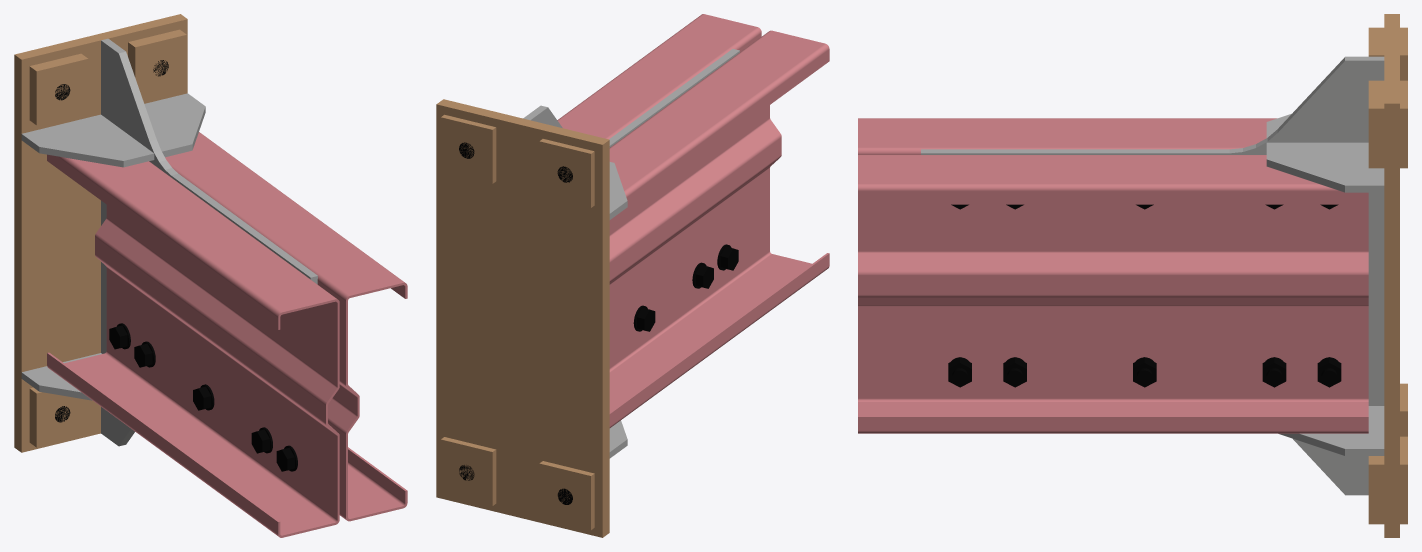
The model's file is column-base.glb.
3 views of the same model, side by side, from view 1: azimuth 30°, elevation 25°; view 2: azimuth 150°, elevation 25°; view 3: azimuth 270°, elevation 25° (orthographic). The views are drawn at different scales.
Visible parts, largest first — view 1: Колонна [0N797gY$j4mh5uXL3cl2Q2], База колонны [1m0E8TShv3gxHEkDilOdN0], Колонна [2wMuTnm4fAkA5I$vCb54PE], База колонны [2ZpkPhGk96VQC3WWBHyIrd], База колонны [2PXQz_Xdn2qh6IOphRCKni], Шайба [2fafrQ3cf5WBHh62Sd41t_], Шайба [3zwl6P9e94JwCtStyLttg4], Шайба [3MxLxZxUr3G9Z1jr2na0nY], База колонны [1vDzN1ooD8PvpcQIEvAxT$], Bolt assembly [2qIWogcfn7vBCVOMD9Efex], База колонны [29LXSt9mj0LujNYqn$jK56]; view 2: База колонны [1m0E8TShv3gxHEkDilOdN0], Колонна [0N797gY$j4mh5uXL3cl2Q2], Колонна [2wMuTnm4fAkA5I$vCb54PE], Шайба [07PDSvedjAYOUN29boiYsx], Шайба [2vgiS5Zl9EcP1tIyc62NW9], Шайба [2irc$6ngXB3v3CDgdjNxog], Шайба [2rQ7wVpWHE7gz0maotjUeJ], База колонны [2ZpkPhGk96VQC3WWBHyIrd], Bolt assembly [2qIWogcfn7vBCVOMD9Efex], База колонны [2PXQz_Xdn2qh6IOphRCKni], База колонны [29LXSt9mj0LujNYqn$jK56]; view 3: Колонна [2wMuTnm4fAkA5I$vCb54PE], База колонны [2ZpkPhGk96VQC3WWBHyIrd], Колонна [0N797gY$j4mh5uXL3cl2Q2], База колонны [1m0E8TShv3gxHEkDilOdN0], База колонны [1vDzN1ooD8PvpcQIEvAxT$], Bolt assembly [2qIWogcfn7vBCVOMD9Efex], База колонны [28NZLmpXrDcPMoF5okpPin], Шайба [3zwl6P9e94JwCtStyLttg4], Шайба [18Cw4lvG16sOCh5TZXtiE7], Шайба [2irc$6ngXB3v3CDgdjNxog], Шайба [07PDSvedjAYOUN29boiYsx].
Part boxes in pixels (x1=…): Колонна [0N797gY$j4mh5uXL3cl2Q2]: x1=47, y1=154, x2=339, y2=537; База колонны [1m0E8TShv3gxHEkDilOdN0]: x1=14, y1=14, x2=187, y2=452; Колонна [2wMuTnm4fAkA5I$vCb54PE]: x1=165, y1=132, x2=407, y2=521; База колонны [2ZpkPhGk96VQC3WWBHyIrd]: x1=101, y1=38, x2=317, y2=446; База колонны [2PXQz_Xdn2qh6IOphRCKni]: x1=21, y1=114, x2=154, y2=167; Шайба [2fafrQ3cf5WBHh62Sd41t_]: x1=29, y1=53, x2=88, y2=125; Шайба [3zwl6P9e94JwCtStyLttg4]: x1=128, y1=29, x2=186, y2=99; Шайба [3MxLxZxUr3G9Z1jr2na0nY]: x1=29, y1=387, x2=88, y2=447; База колонны [1vDzN1ooD8PvpcQIEvAxT$]: x1=144, y1=93, x2=205, y2=157; Bolt assembly [2qIWogcfn7vBCVOMD9Efex]: x1=109, y1=323, x2=297, y2=471; База колонны [29LXSt9mj0LujNYqn$jK56]: x1=21, y1=353, x2=101, y2=400; База колонны [1m0E8TShv3gxHEkDilOdN0]: x1=436, y1=99, x2=609, y2=537; Колонна [0N797gY$j4mh5uXL3cl2Q2]: x1=609, y1=30, x2=829, y2=427; Колонна [2wMuTnm4fAkA5I$vCb54PE]: x1=557, y1=14, x2=761, y2=139; Шайба [07PDSvedjAYOUN29boiYsx]: x1=441, y1=437, x2=496, y2=505; Шайба [2vgiS5Zl9EcP1tIyc62NW9]: x1=539, y1=139, x2=594, y2=207; Шайба [2irc$6ngXB3v3CDgdjNxog]: x1=441, y1=114, x2=496, y2=183; Шайба [2rQ7wVpWHE7gz0maotjUeJ]: x1=539, y1=461, x2=594, y2=529; База колонны [2ZpkPhGk96VQC3WWBHyIrd]: x1=523, y1=49, x2=739, y2=147; Bolt assembly [2qIWogcfn7vBCVOMD9Efex]: x1=633, y1=244, x2=738, y2=331; База колонны [2PXQz_Xdn2qh6IOphRCKni]: x1=609, y1=162, x2=627, y2=219; База колонны [29LXSt9mj0LujNYqn$jK56]: x1=609, y1=420, x2=627, y2=458; Колонна [2wMuTnm4fAkA5I$vCb54PE]: x1=858, y1=155, x2=1368, y2=433; База колонны [2ZpkPhGk96VQC3WWBHyIrd]: x1=921, y1=56, x2=1384, y2=495; Колонна [0N797gY$j4mh5uXL3cl2Q2]: x1=858, y1=118, x2=1276, y2=154; База колонны [1m0E8TShv3gxHEkDilOdN0]: x1=1384, y1=14, x2=1399, y2=537; База колонны [1vDzN1ooD8PvpcQIEvAxT$]: x1=1266, y1=142, x2=1384, y2=192; Bolt assembly [2qIWogcfn7vBCVOMD9Efex]: x1=948, y1=204, x2=1341, y2=387; База колонны [28NZLmpXrDcPMoF5okpPin]: x1=1278, y1=406, x2=1384, y2=455; Шайба [3zwl6P9e94JwCtStyLttg4]: x1=1368, y1=80, x2=1384, y2=168; Шайба [18Cw4lvG16sOCh5TZXtiE7]: x1=1368, y1=456, x2=1384, y2=524; Шайба [2irc$6ngXB3v3CDgdjNxog]: x1=1400, y1=80, x2=1407, y2=168; Шайба [07PDSvedjAYOUN29boiYsx]: x1=1400, y1=436, x2=1407, y2=524.
Bounding box in the file's own units: 0.27 × 0.61 × 0.7.
